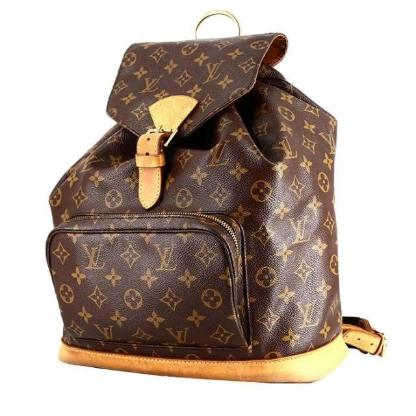bag: (41, 4, 390, 389)
